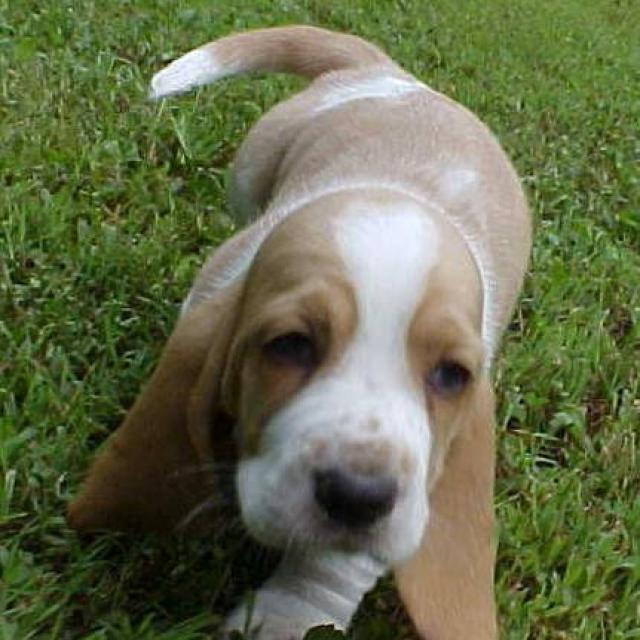basset: (65, 25, 530, 637)
